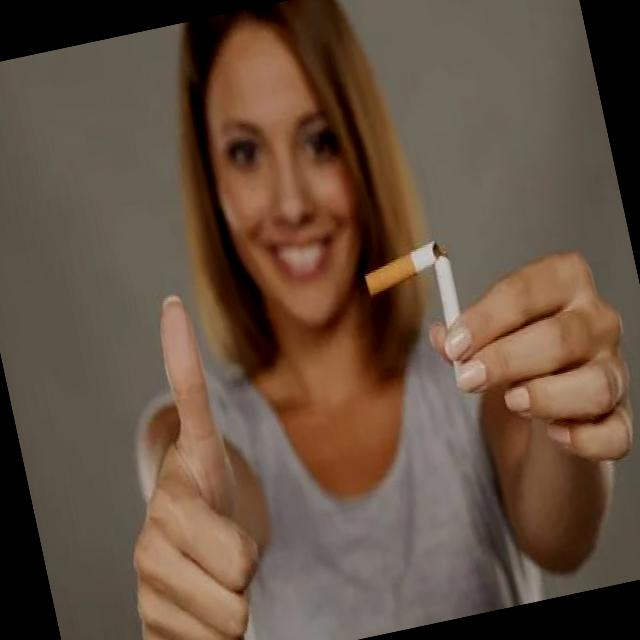smoke: (358, 230, 446, 306), (432, 251, 476, 373)
